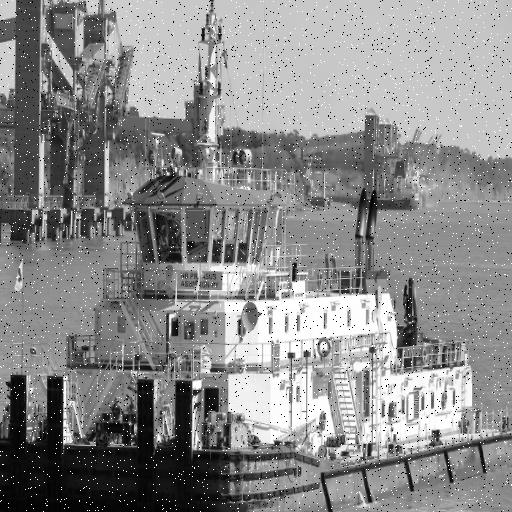tugboat: (1, 133, 512, 512)
